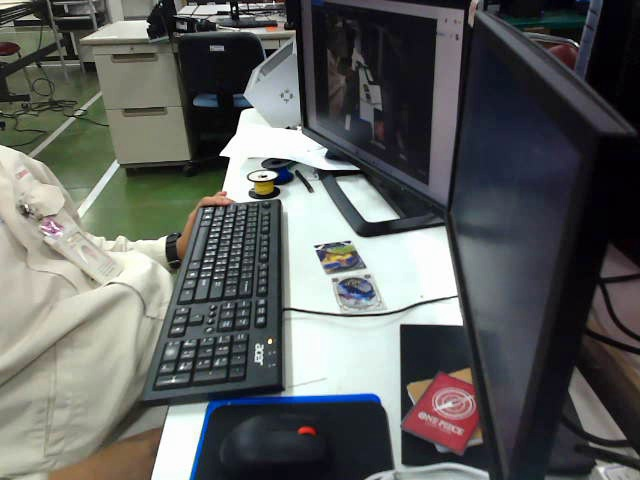can: (325, 274, 387, 310), (308, 235, 368, 270)
